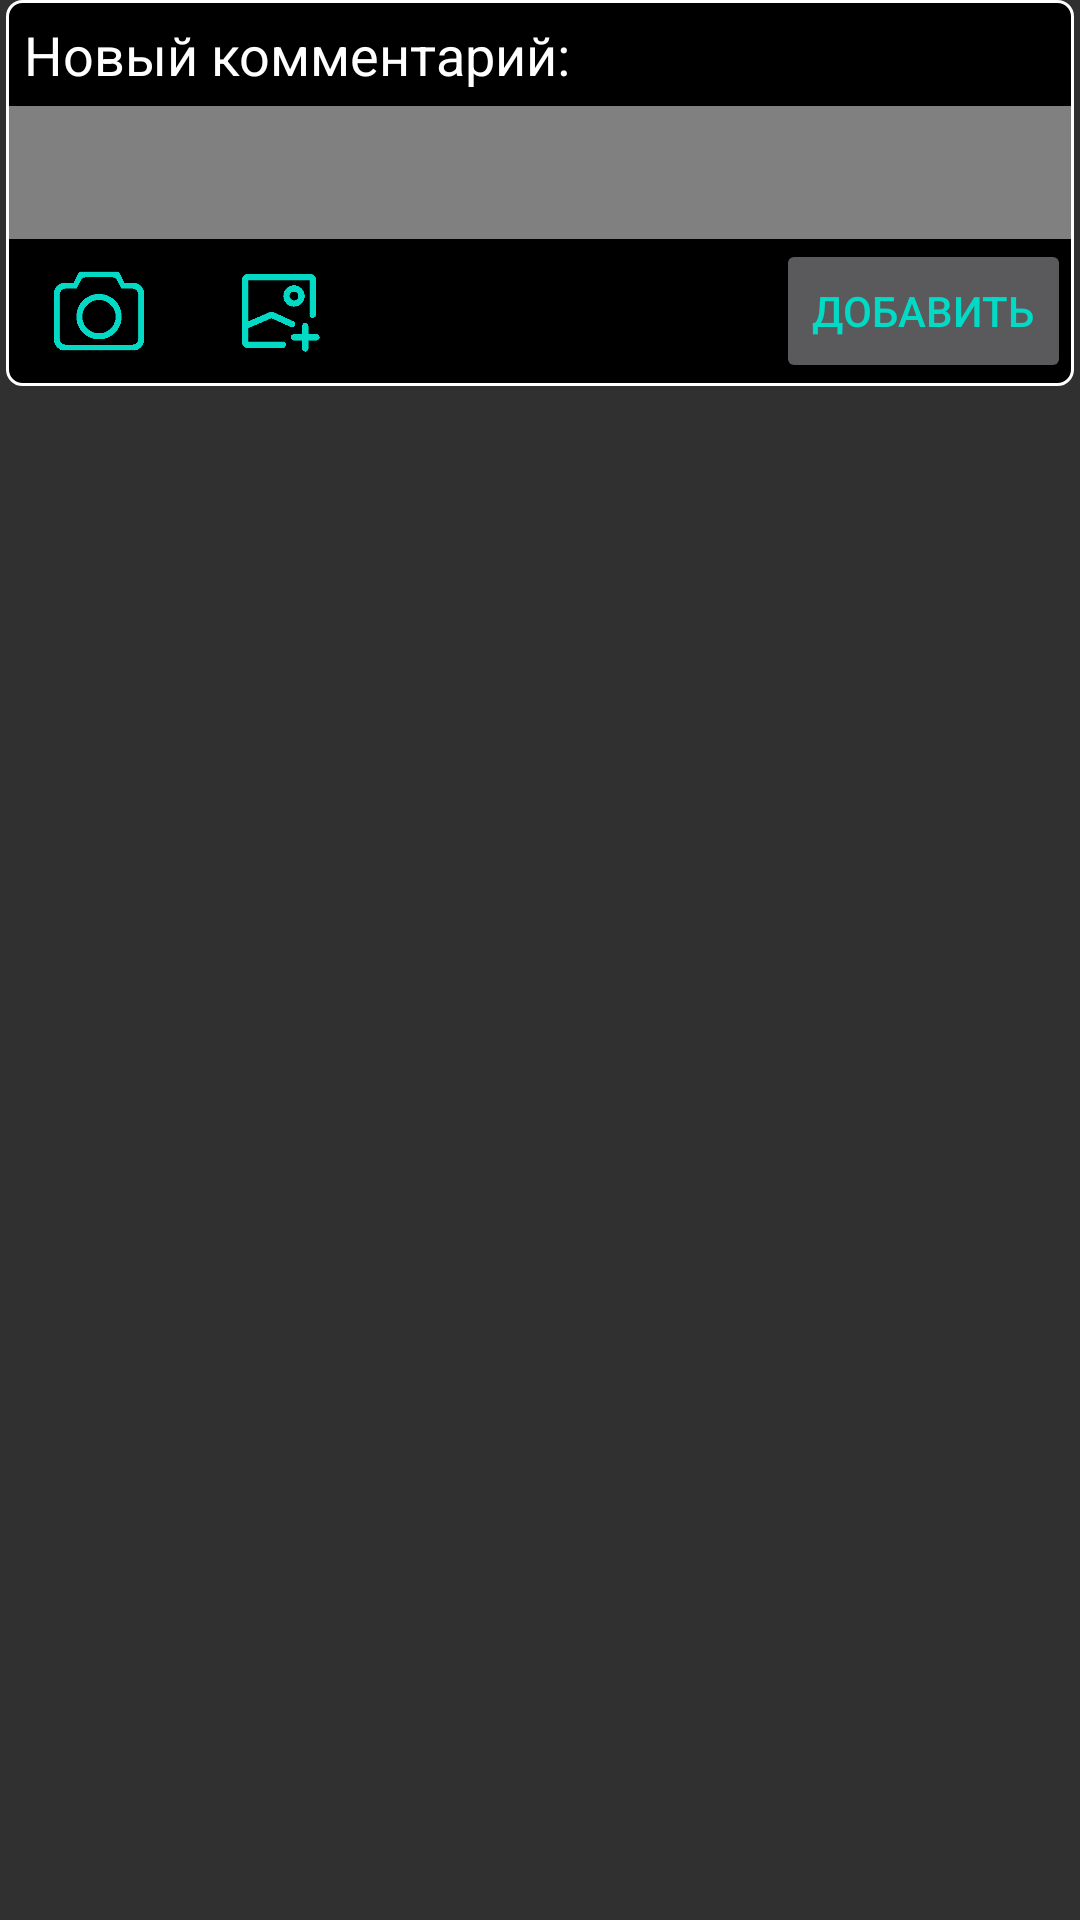

Icon bounding boxes for this 1080×1920 phone screenshot, format rect(x1, y1, x2, y2):
add: rect(242, 274, 320, 352)
